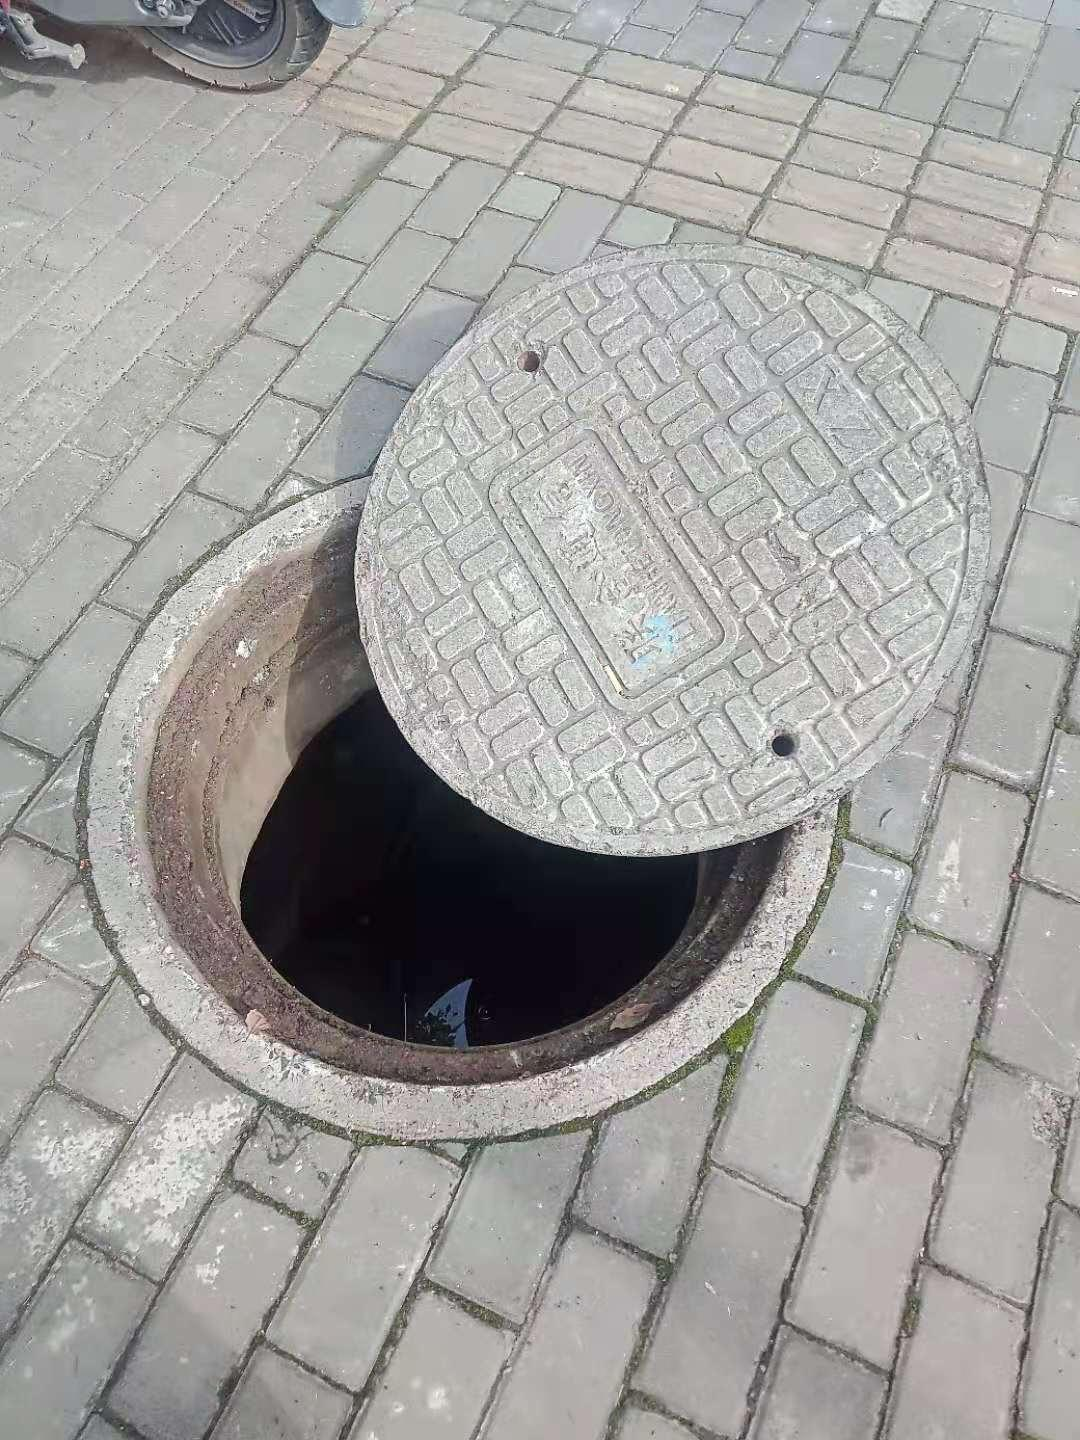wellcover: (99, 219, 988, 1152)
